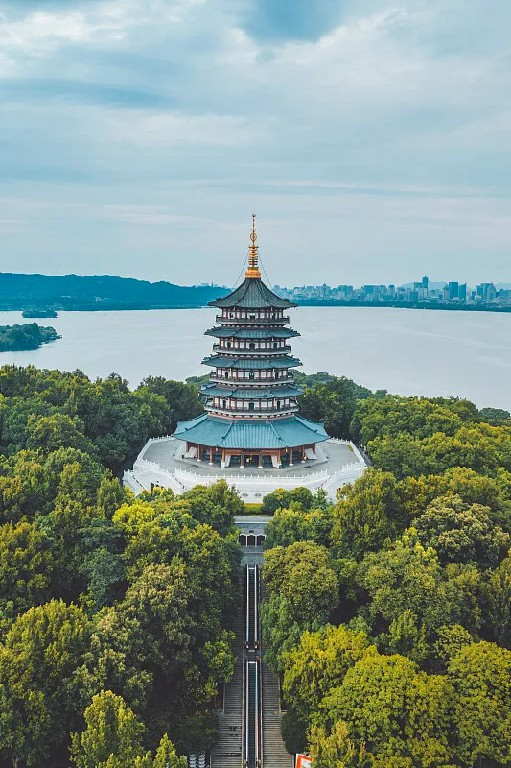Leifeng: (173, 213, 329, 475)
